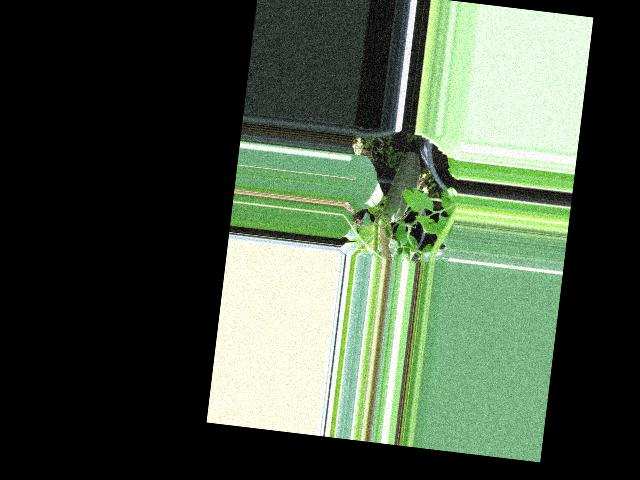cucumber: (381, 149, 422, 225)
